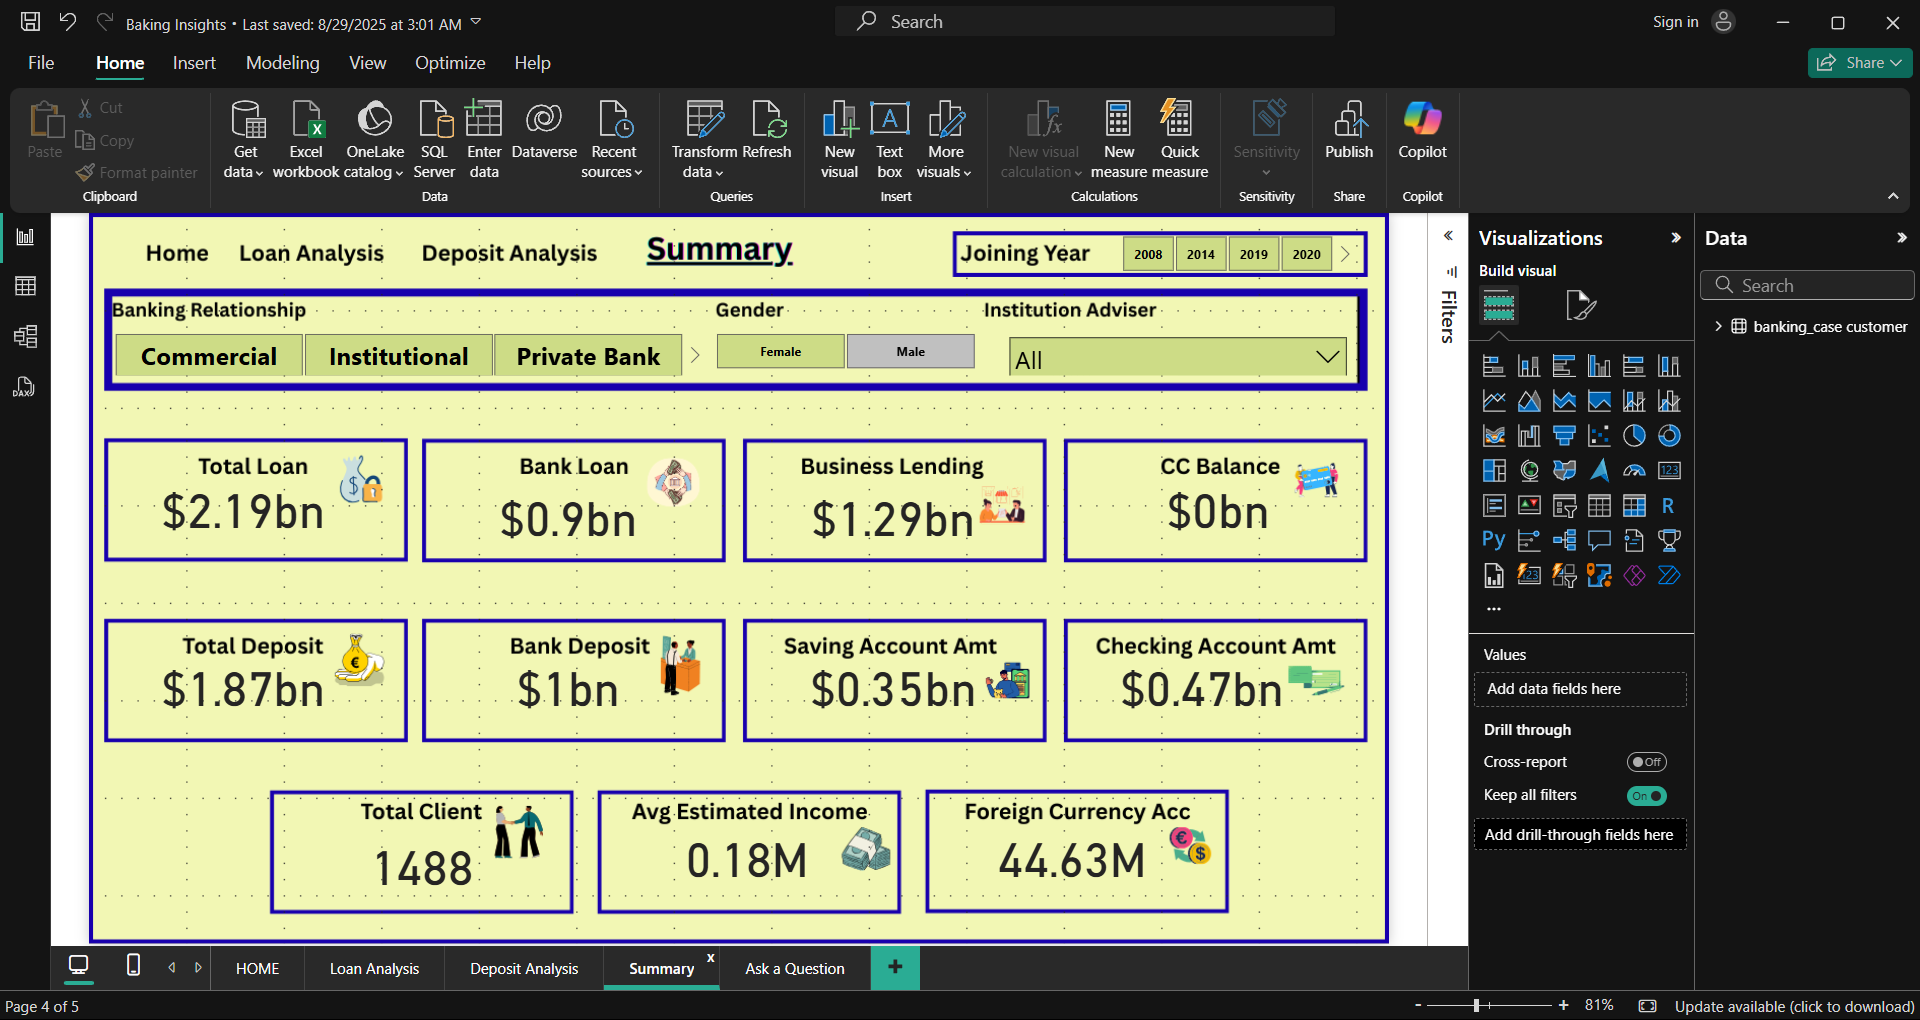

The dashboard page shown, as its layout file describes it:
{"tool":"powerbi","page":{"name":"Summary","canvas":[1280,720],"ordinal":3},"visuals":[{"type":"card","fields":{"Values":["banking_case customer.Total Loan"]},"box":[32,240,240,96],"z":0},{"type":"card","fields":{"Values":["banking_case customer.Bank Loans"]},"box":[352,224,240,144],"z":1000},{"type":"card","fields":{"Values":["banking_case customer.Business Lending"]},"box":[672,224,240,144],"z":2000},{"type":"card","fields":{"Values":["banking_case customer.Credit Card Balance"]},"box":[992,224,240,128],"z":3000},{"type":"card","fields":{"Values":["banking_case customer.Total Deposit"]},"box":[32,384,240,160],"z":4000},{"type":"card","fields":{"Values":["banking_case customer.Bank Deposits"]},"box":[352,384,240,160],"z":5000},{"type":"card","fields":{"Values":["banking_case customer.Saving Accounts"]},"box":[672,384,240,160],"z":6000},{"type":"card","fields":{"Values":["banking_case customer.Checking Accounts"]},"box":[976,384,240,160],"z":7000},{"type":"card","fields":{"Values":["banking_case customer.Name"]},"box":[208,560,240,160],"z":8000},{"type":"card","fields":{"Values":["banking_case customer.Estimated Income"]},"box":[528,560,240,144],"z":9000},{"type":"card","fields":{"Values":["banking_case customer.Foreign Currency Account"]},"box":[848,560,240,144],"z":10000},{"type":"slicer","fields":{"Values":["banking_case customer.BRId"]},"box":[0,112,608,48],"z":11000},{"type":"slicer","fields":{"Values":["banking_case customer.GenderId"]},"box":[592,112,304,48],"z":12000},{"type":"slicer","fields":{"Values":["banking_case customer.IAId"]},"box":[896,112,352,48],"z":13000},{"type":"slicer","fields":{"Values":["banking_case customer.Year of Joining"]},"box":[992,16,256,48],"z":14000},{"type":"actionButton","box":[32,16,96,48],"z":15000},{"type":"actionButton","box":[144,16,160,48],"z":16000},{"type":"actionButton","box":[304,16,208,48],"z":17000}]}

Visuals, with their boxes on the page's 1280x720 design canvas (x1, y1, x2, y2). These are canvas units, not pixel positions in the 1920x1020 screenshot, which may show the page scaled, cropped or inside an application window:
card - banking_case customer.Total Loan: (left=32, top=240, right=272, bottom=336)
card - banking_case customer.Bank Loans: (left=352, top=224, right=592, bottom=368)
card - banking_case customer.Business Lending: (left=672, top=224, right=912, bottom=368)
card - banking_case customer.Credit Card Balance: (left=992, top=224, right=1232, bottom=352)
card - banking_case customer.Total Deposit: (left=32, top=384, right=272, bottom=544)
card - banking_case customer.Bank Deposits: (left=352, top=384, right=592, bottom=544)
card - banking_case customer.Saving Accounts: (left=672, top=384, right=912, bottom=544)
card - banking_case customer.Checking Accounts: (left=976, top=384, right=1216, bottom=544)
card - banking_case customer.Name: (left=208, top=560, right=448, bottom=720)
card - banking_case customer.Estimated Income: (left=528, top=560, right=768, bottom=704)
card - banking_case customer.Foreign Currency Account: (left=848, top=560, right=1088, bottom=704)
slicer - banking_case customer.BRId: (left=0, top=112, right=608, bottom=160)
slicer - banking_case customer.GenderId: (left=592, top=112, right=896, bottom=160)
slicer - banking_case customer.IAId: (left=896, top=112, right=1248, bottom=160)
slicer - banking_case customer.Year of Joining: (left=992, top=16, right=1248, bottom=64)
actionButton: (left=32, top=16, right=128, bottom=64)
actionButton: (left=144, top=16, right=304, bottom=64)
actionButton: (left=304, top=16, right=512, bottom=64)
